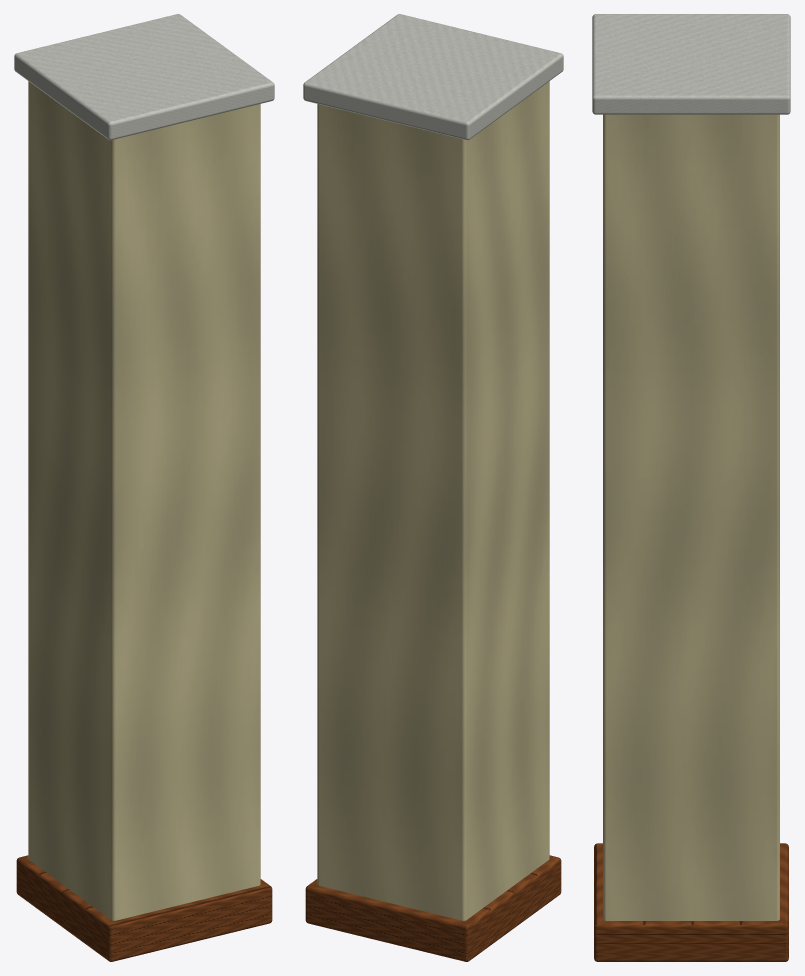
File: three-d-liminal-spaces-kit-liminal-spaces-kit-wall-pillar-0b3be550.glb
3 views of the same model, side by side, from view 1: azimuth 30°, elevation 25°; view 2: azimuth 150°, elevation 25°; view 3: azimuth 270°, elevation 25° (orthographic). The views are drawn at different scales.
Parts seen in each view (by area): view 1: wall-pillar; view 2: wall-pillar; view 3: wall-pillar.
Boxes of the visible parts, box(x1,y1,x2,y2) form: wall-pillar: box(14, 14, 274, 961); wall-pillar: box(303, 14, 563, 961); wall-pillar: box(592, 14, 790, 961).
Bounding box in the file's own units: 0.56 × 2.7 × 0.56.
Materials: 3 (3 with a texture image).
